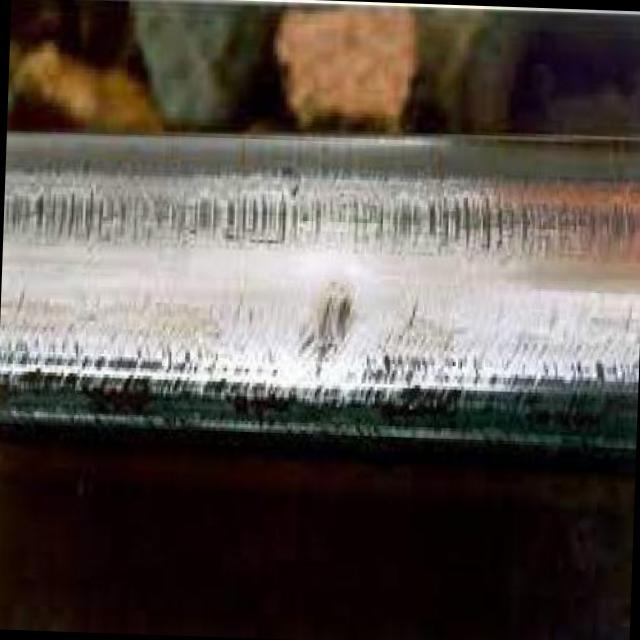defective: (0, 53, 640, 567)
